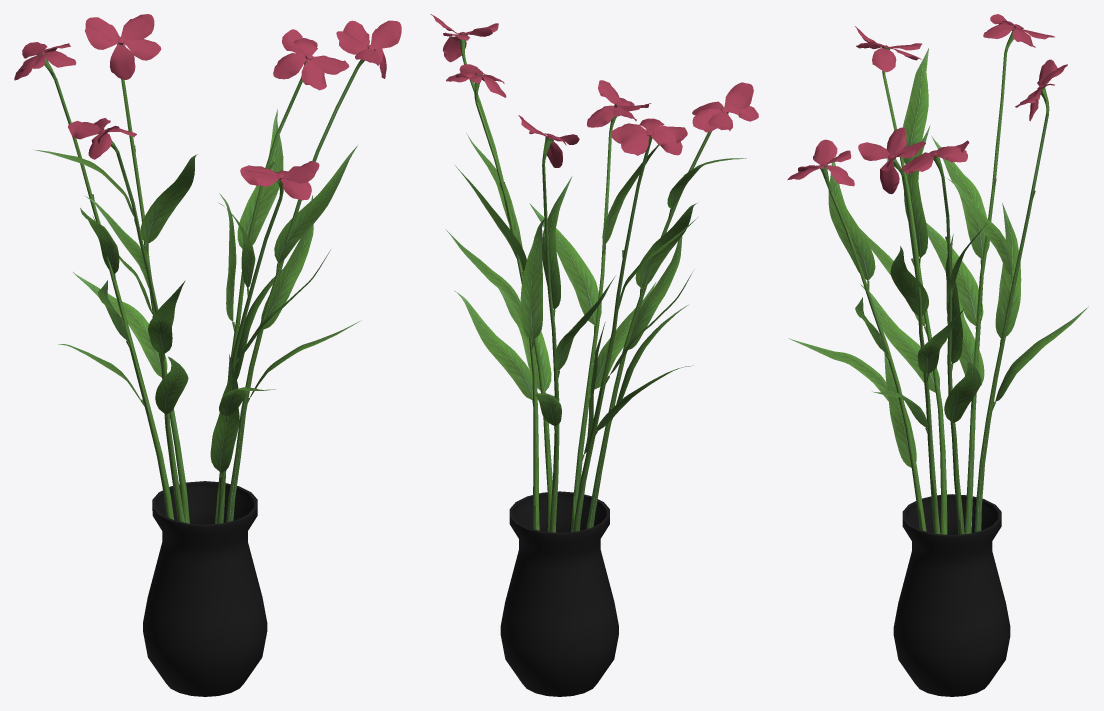
Rendered from Plant 5.FBX.
The picture shows the model from 3 angles, left to right: view 1: azimuth 30°, elevation 25°; view 2: azimuth 150°, elevation 25°; view 3: azimuth 270°, elevation 25°; orthographic projection. The views are drawn at different scales.
Parts seen in each view (by area): view 1: plant 5; view 2: plant 5; view 3: plant 5.
Boxes of the visible parts, <box> form: plant 5: <box>14,14,401,696</box>; plant 5: <box>430,14,758,696</box>; plant 5: <box>787,14,1088,696</box>.
Bounding box in the file's own units: 29.15 × 50.99 × 23.26.
Materials: 3 (2 with a texture image).
